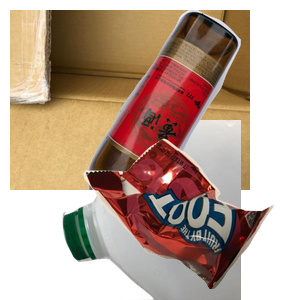cardboard: (10, 10, 250, 190)
glass: (85, 10, 300, 190)
plastic: (60, 120, 300, 300)
trash: (81, 136, 300, 300)
